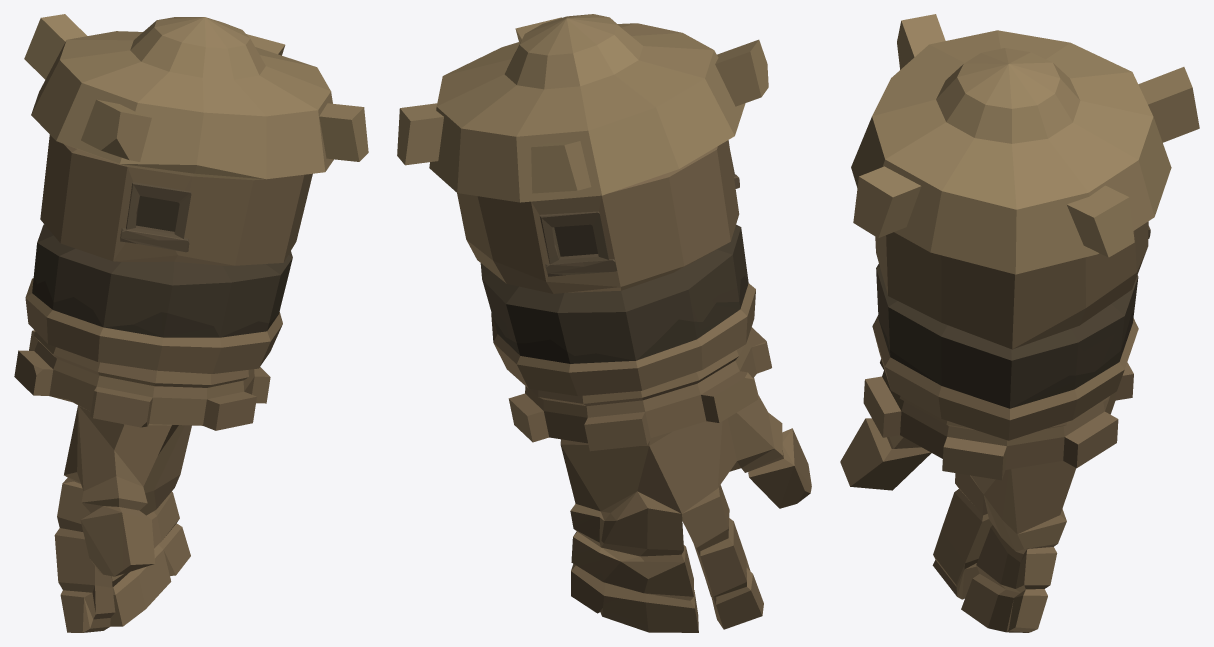
File: arm_r_lower.gltf
3 renders of one model, left to right at view 1: azimuth 30°, elevation 25°; view 2: azimuth 150°, elevation 25°; view 3: azimuth 270°, elevation 25°, orthographic. The views are drawn at different scales.
Visible parts, largest first — view 1: arm_r_lower; view 2: arm_r_lower; view 3: arm_r_lower.
Boxes of the visible parts, <box> form: arm_r_lower: <box>14,14,368,632</box>; arm_r_lower: <box>397,14,811,632</box>; arm_r_lower: <box>840,14,1199,632</box>.
Size of the model in its own units: 2.83 by 5.13 by 2.76.
1 material, 1 textured.
